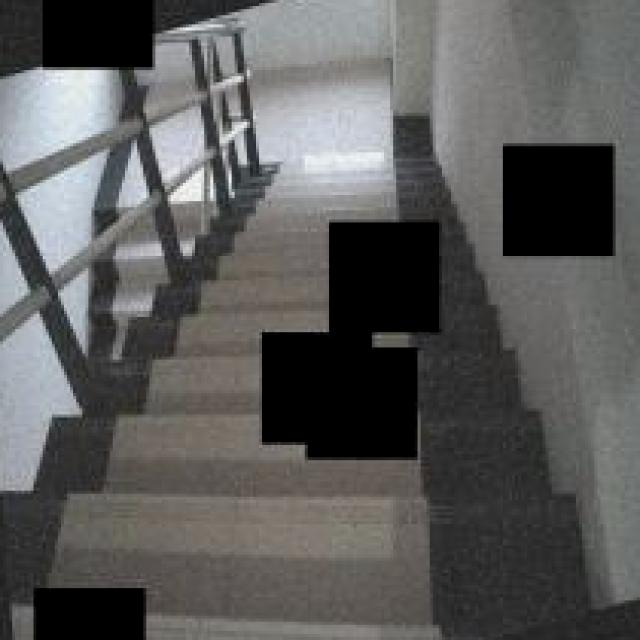downstair: (239, 190, 327, 312)
